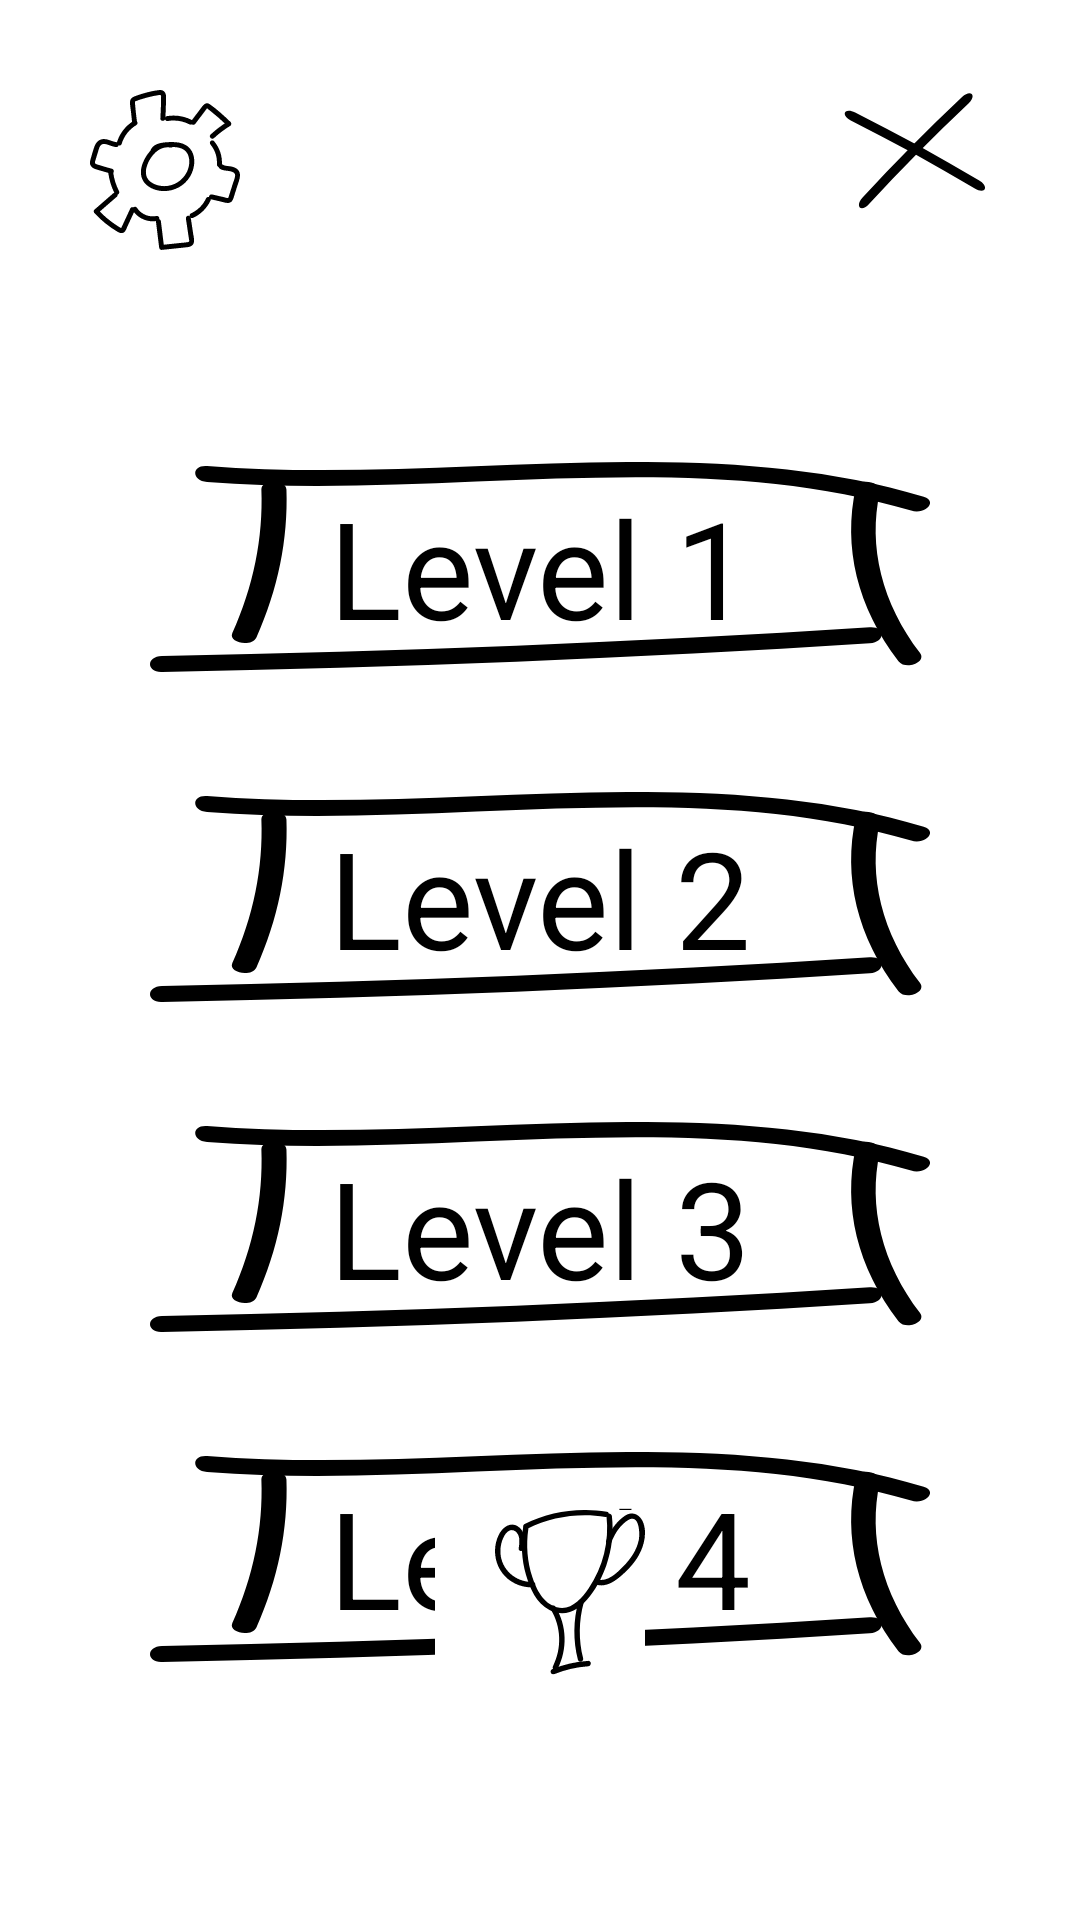

Screen size 1080x1920. Icon name, then its center in pixels as (x=x, y=y):
cup: (x=570, y=1592)
settings: (x=165, y=170)
